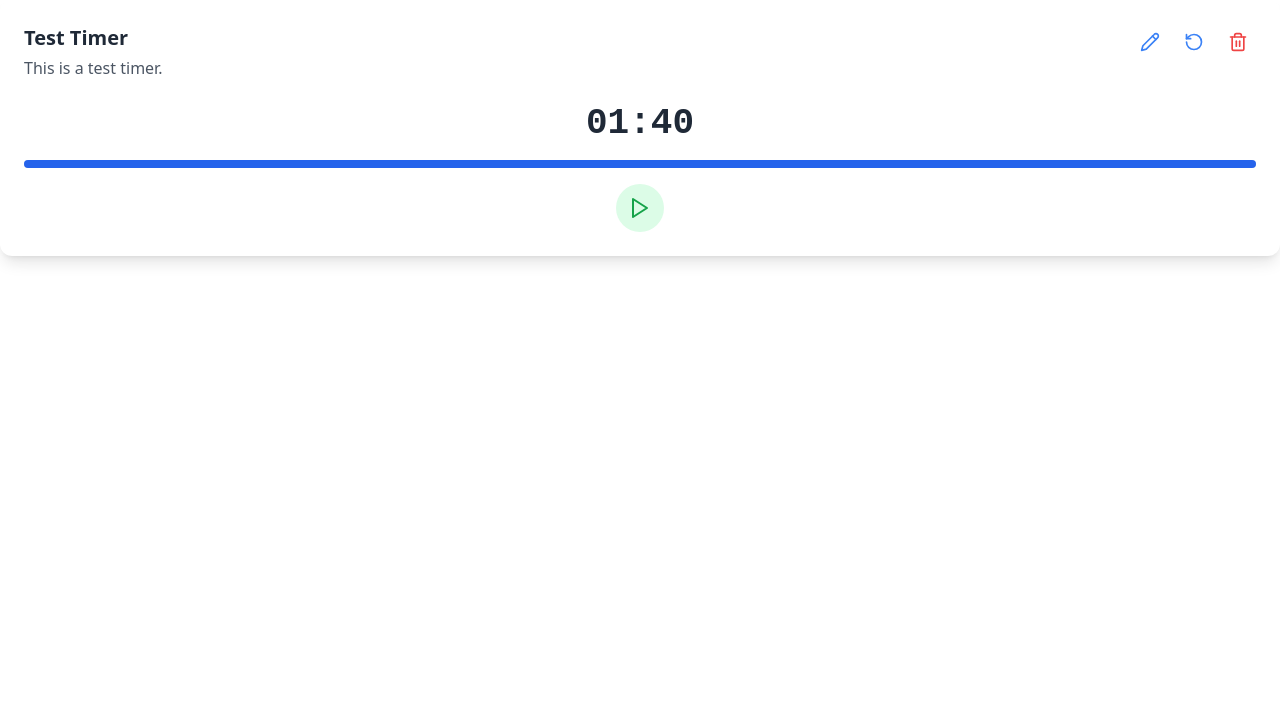
Test case: TimerItem › shows the edit modal when the edit button is clicked
This screenshot has width=1280, height=720.
Find and click the Edit button
Click the button titled "Edit Timer".
click(1150, 42)  # box [1132,24,1168,60]
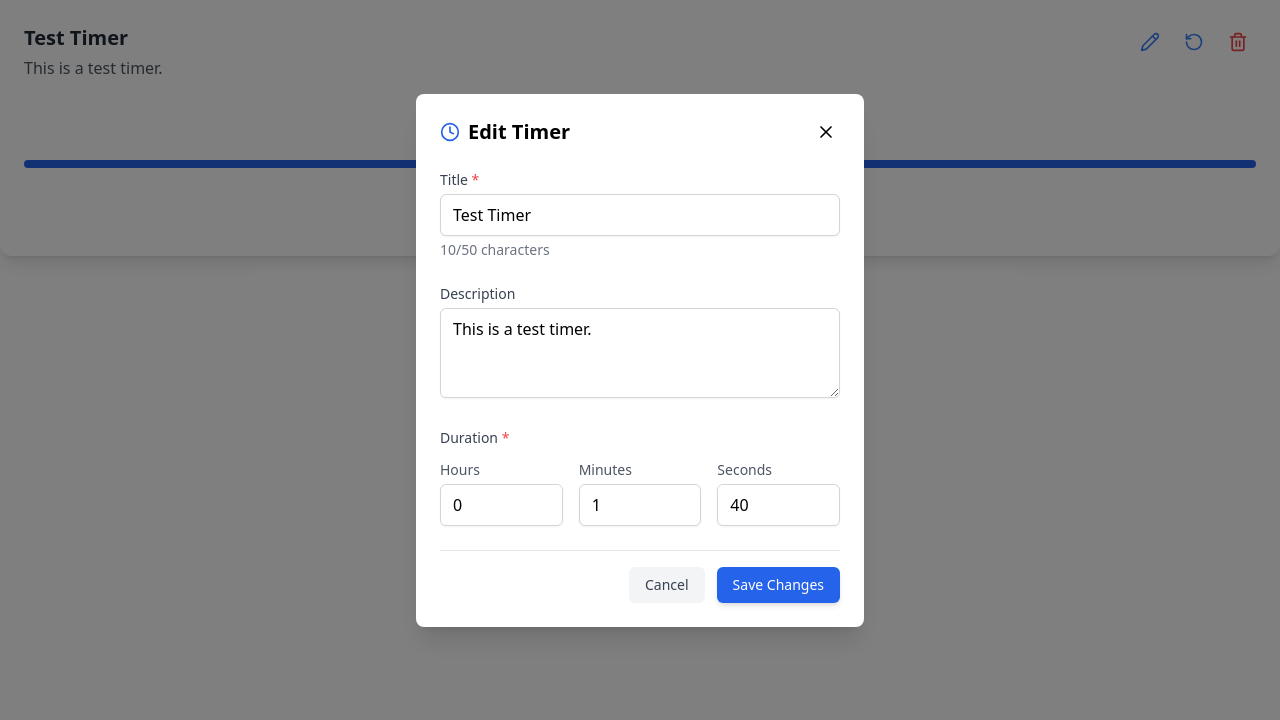
Check: the heading "Edit Timer" is shown, box [468,118,570,146]
